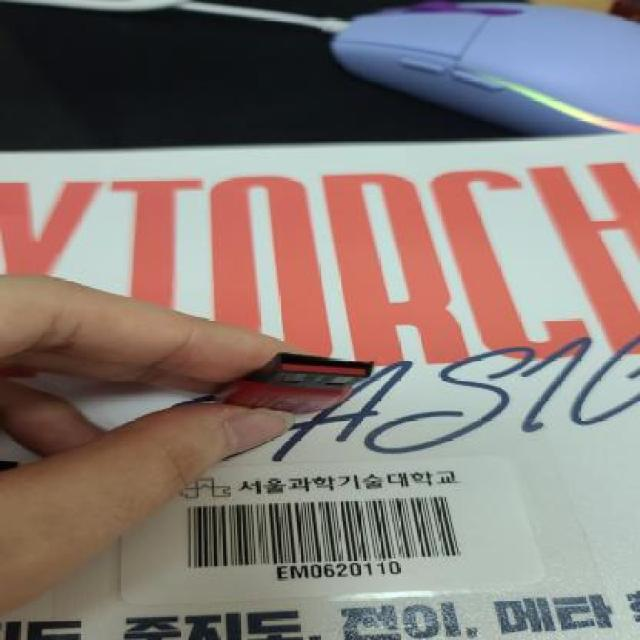Flashdisk: (207, 352, 376, 416)
